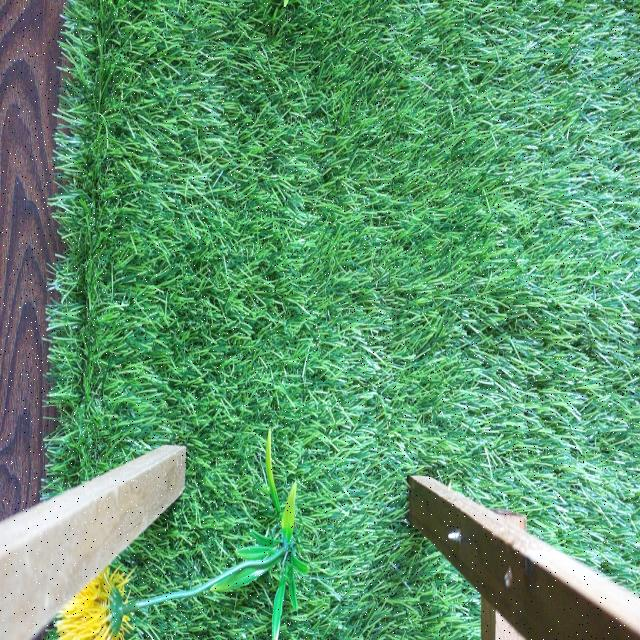base: (210, 427, 309, 640)
flower: (46, 550, 132, 640)
